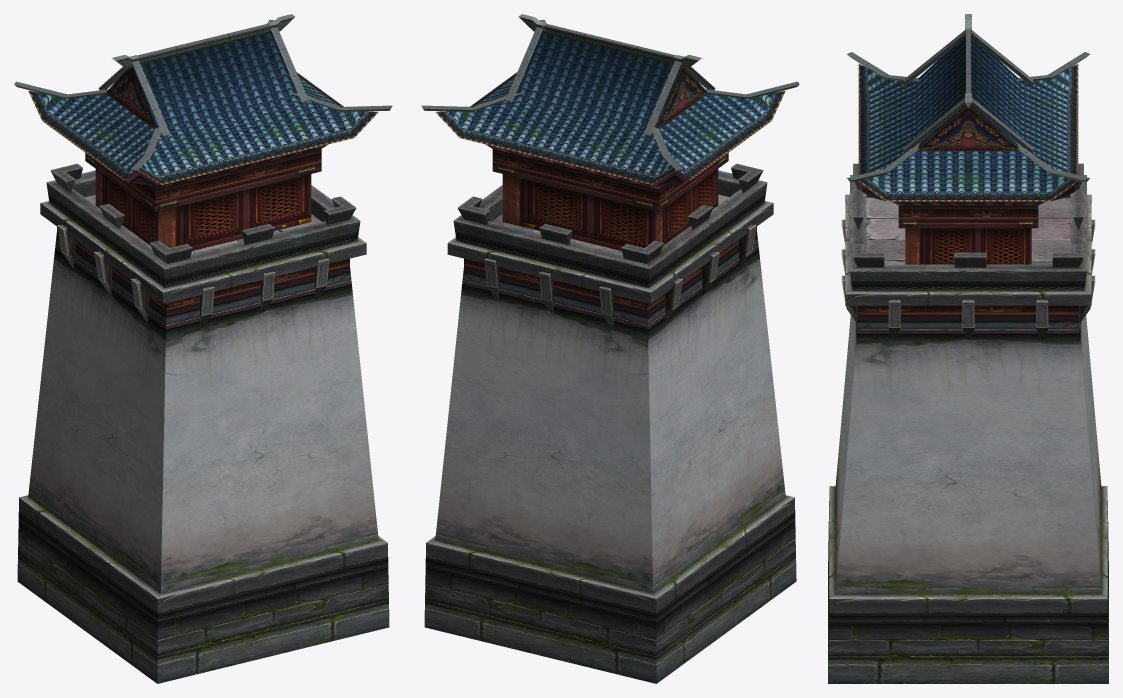
File: Maincity06_Building_Wall01_LOD1.FBX
3 renders of one model, left to right at view 1: azimuth 30°, elevation 25°; view 2: azimuth 150°, elevation 25°; view 3: azimuth 270°, elevation 25°, orthographic.
Visible parts, largest first — view 1: Maincity06_Building_Wall01_LOD1; view 2: Maincity06_Building_Wall01_LOD1; view 3: Maincity06_Building_Wall01_LOD1.
Boxes of the visible parts, x1,y1,x2,y2 form: Maincity06_Building_Wall01_LOD1: (14,14,392,683); Maincity06_Building_Wall01_LOD1: (421,14,799,683); Maincity06_Building_Wall01_LOD1: (828,14,1108,683).
Size of the model in its own units: 1322 by 2728 by 1221.
